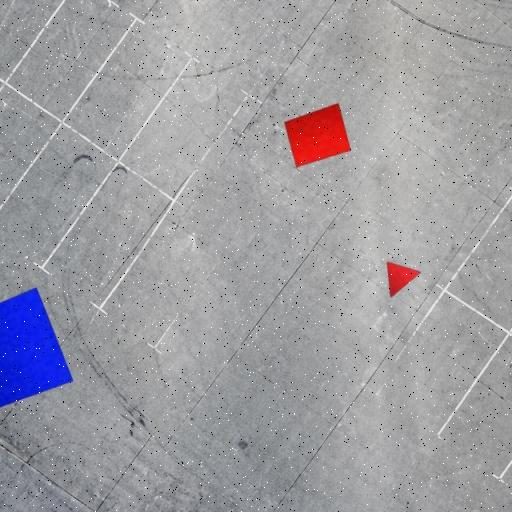BLUE_SQUARE: (0, 288, 74, 414)
RED_SQUARE: (284, 102, 352, 168)
